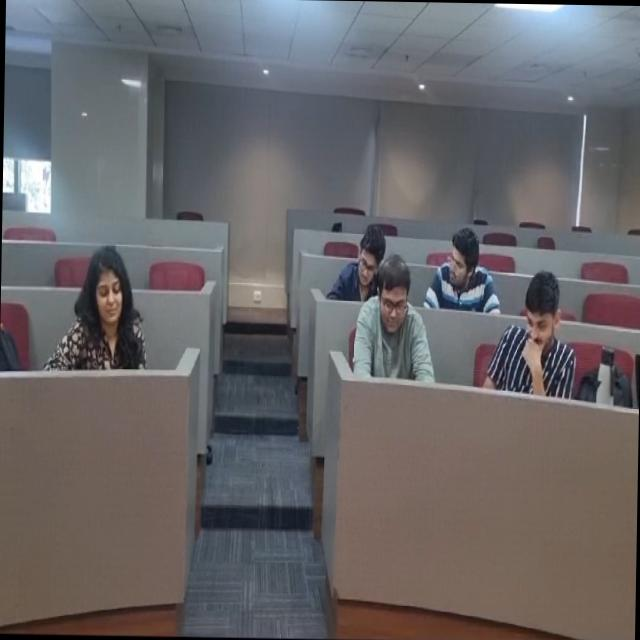cheating: (510, 272, 584, 394), (432, 216, 506, 325)
non-cheating: (64, 239, 144, 365), (336, 192, 392, 306), (371, 262, 432, 366)
